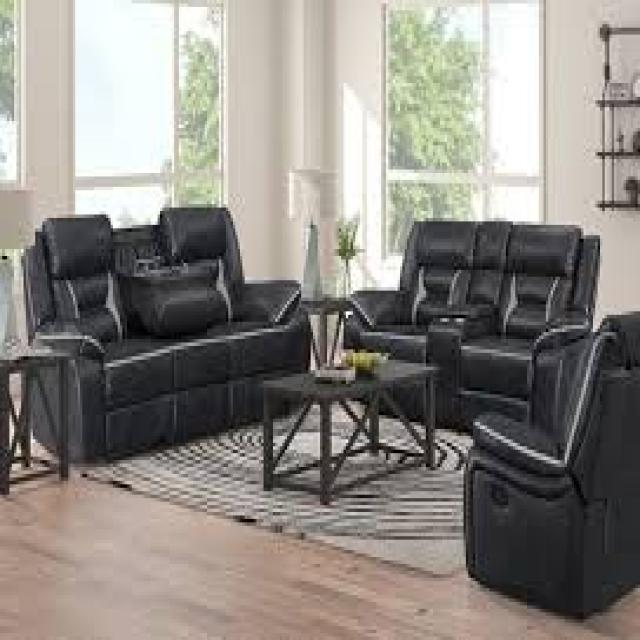Chair: (459, 308, 640, 605)
Sofa: (24, 211, 302, 470), (344, 213, 575, 443)
Table: (266, 360, 441, 500)
